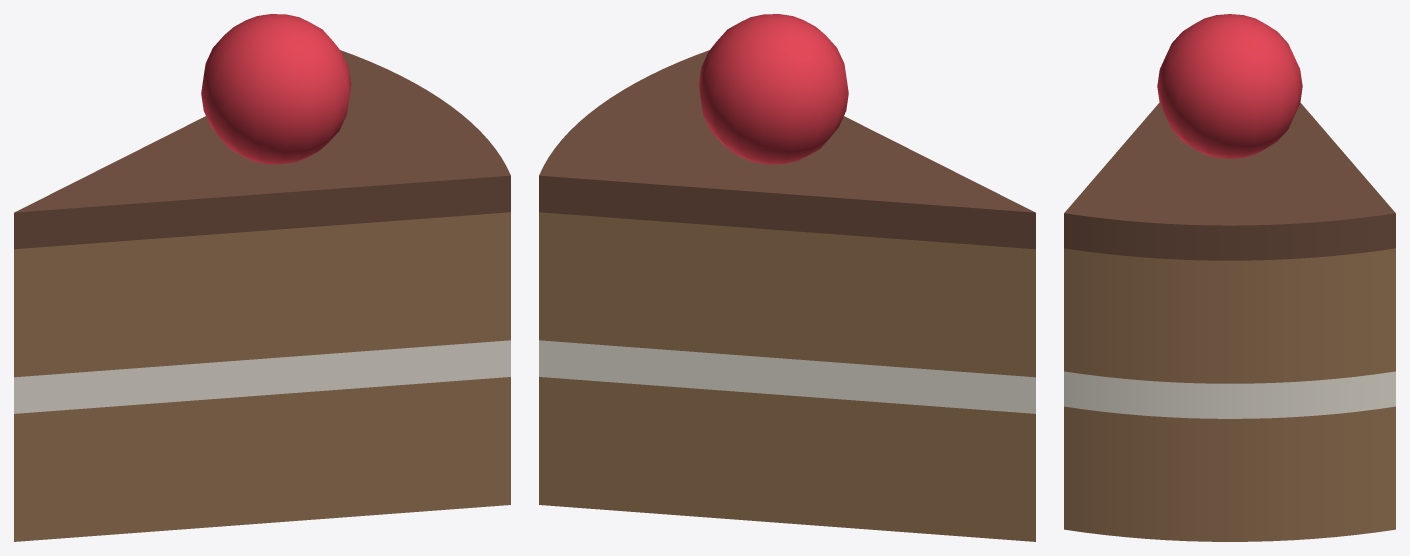
The model's file is bolo.glb.
The picture shows the model from 3 angles, left to right: view 1: azimuth 30°, elevation 25°; view 2: azimuth 150°, elevation 25°; view 3: azimuth 270°, elevation 25°; orthographic projection. The views are drawn at different scales.
Visible parts, largest first — view 1: fatia_de_bolo; view 2: fatia_de_bolo; view 3: fatia_de_bolo.
Part boxes in pixels (box(x1,y1,x2,y2)): fatia_de_bolo: box(14, 14, 510, 541); fatia_de_bolo: box(539, 14, 1035, 541); fatia_de_bolo: box(1064, 14, 1395, 541).
Size of the model in its own units: 0.1 by 0.1 by 0.0684.
